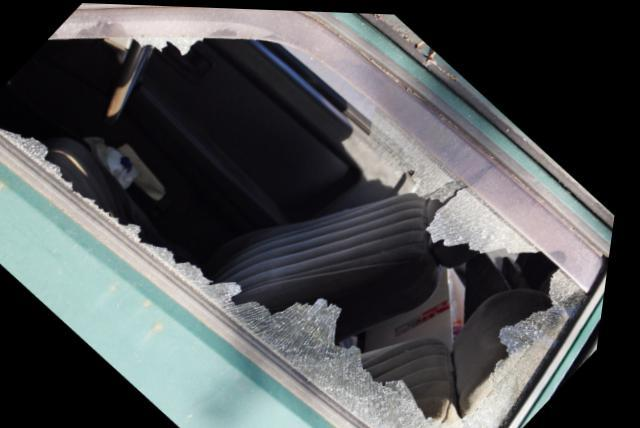glass shatter: (0, 5, 614, 428)
